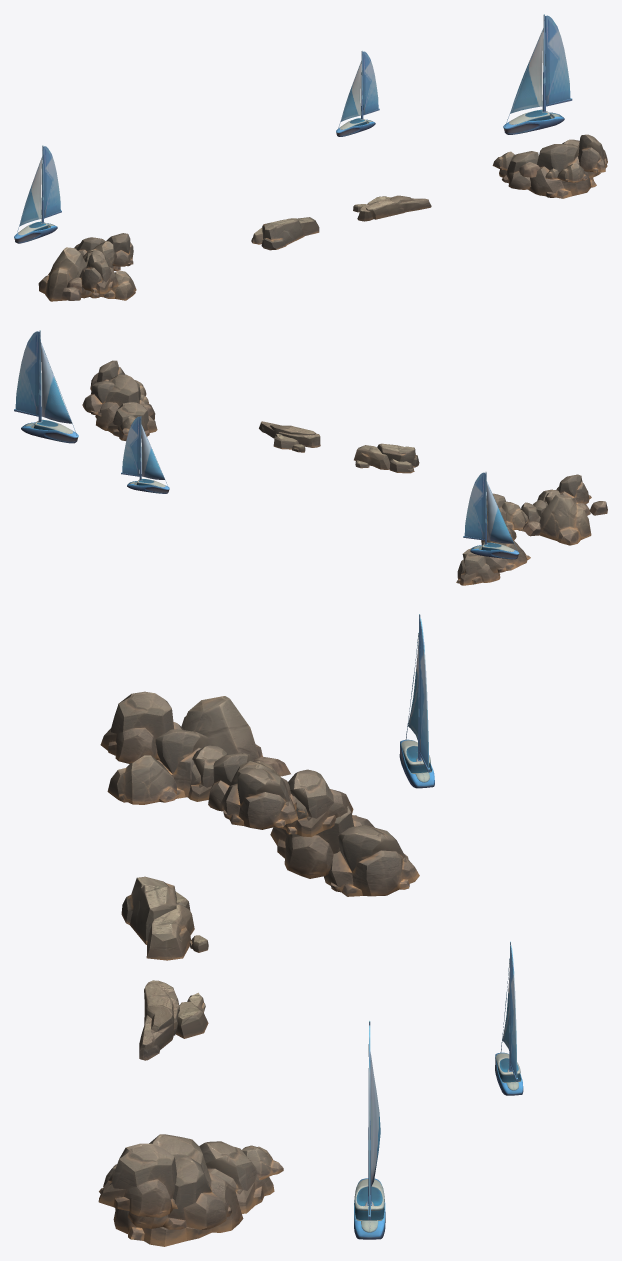
File: pref_sm_beach_bk_pointmol_downsand_lv2.fbx
3 views of the same model, one above another, from view 1: azimuth 30°, elevation 25°; view 2: azimuth 150°, elevation 25°; view 3: azimuth 270°, elevation 25° (orthographic). The views are drawn at different scales.
Parts seen in each view (by area): view 1: sm_beach_bk_pointmol_downrock_lv2, sm_beach_bk_pointmol_smallpror02_lv2; view 2: sm_beach_bk_pointmol_downrock_lv2, sm_beach_bk_pointmol_smallpror02_lv2; view 3: sm_beach_bk_pointmol_downrock_lv2, sm_beach_bk_pointmol_smallpror02_lv2.
Part boxes in pixels (x1,y1,x2,y2): sm_beach_bk_pointmol_downrock_lv2: [38, 134, 607, 301]; sm_beach_bk_pointmol_smallpror02_lv2: [14, 14, 572, 243]; sm_beach_bk_pointmol_downrock_lv2: [82, 360, 607, 585]; sm_beach_bk_pointmol_smallpror02_lv2: [14, 330, 519, 559]; sm_beach_bk_pointmol_downrock_lv2: [98, 691, 419, 1246]; sm_beach_bk_pointmol_smallpror02_lv2: [354, 614, 523, 1239].
Size of the model in its own units: 55.83 by 14.38 by 19.15.
